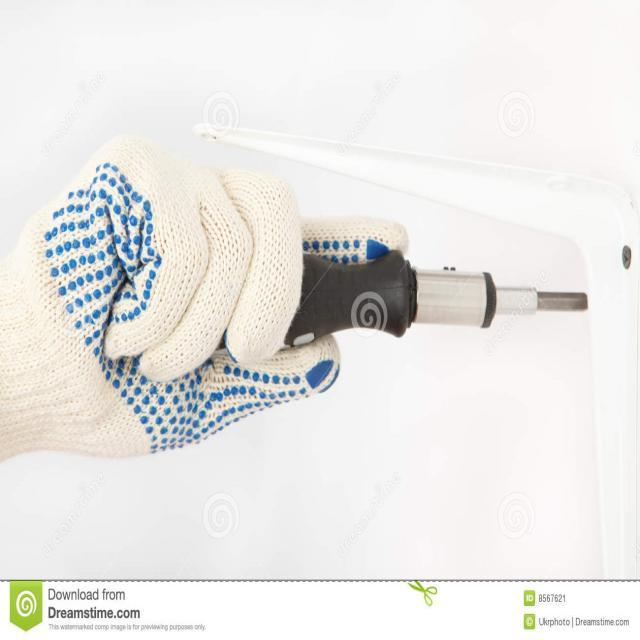screwdriver: (271, 246, 592, 354)
